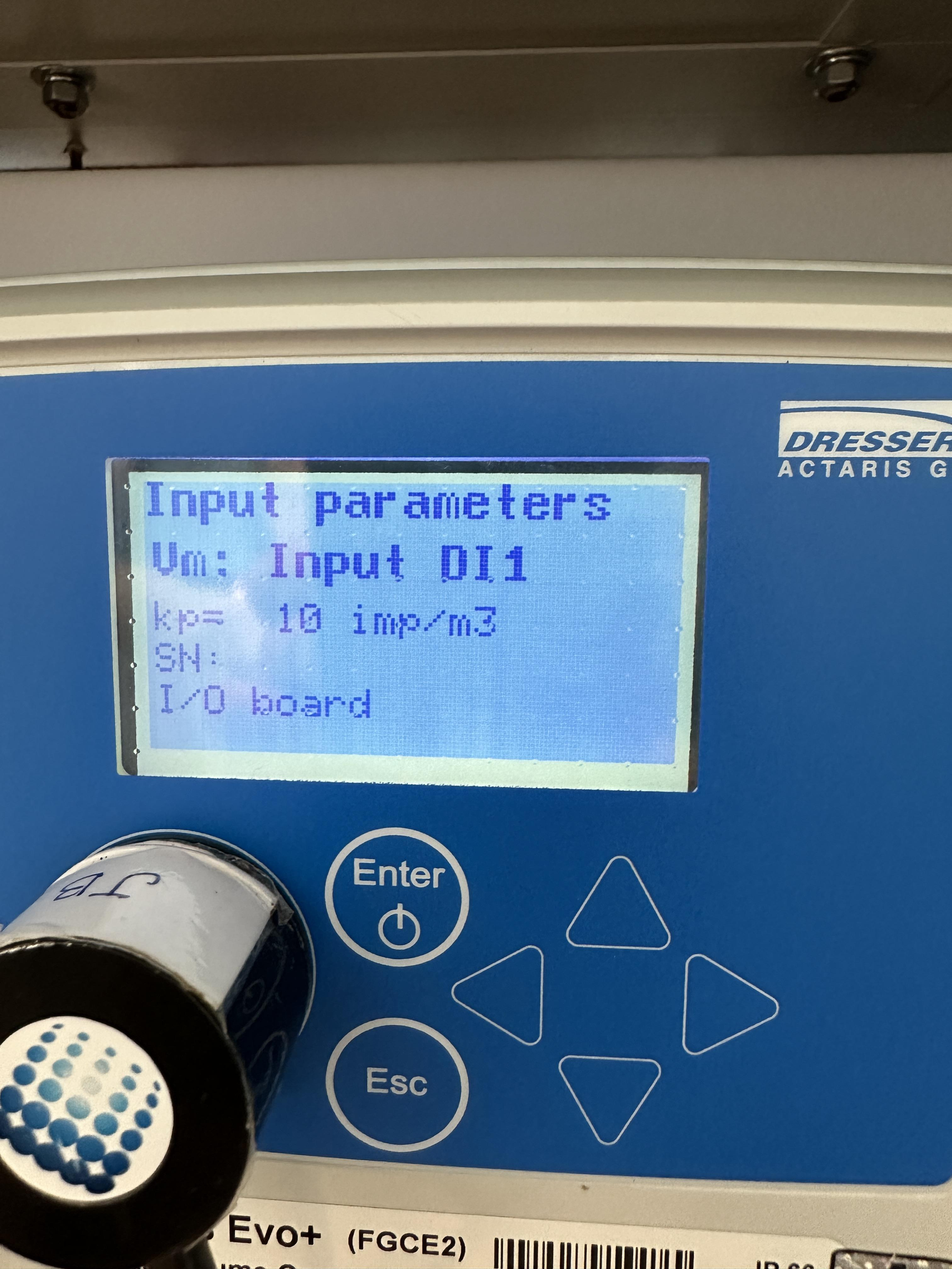digital_screen: (120, 457, 701, 792)
